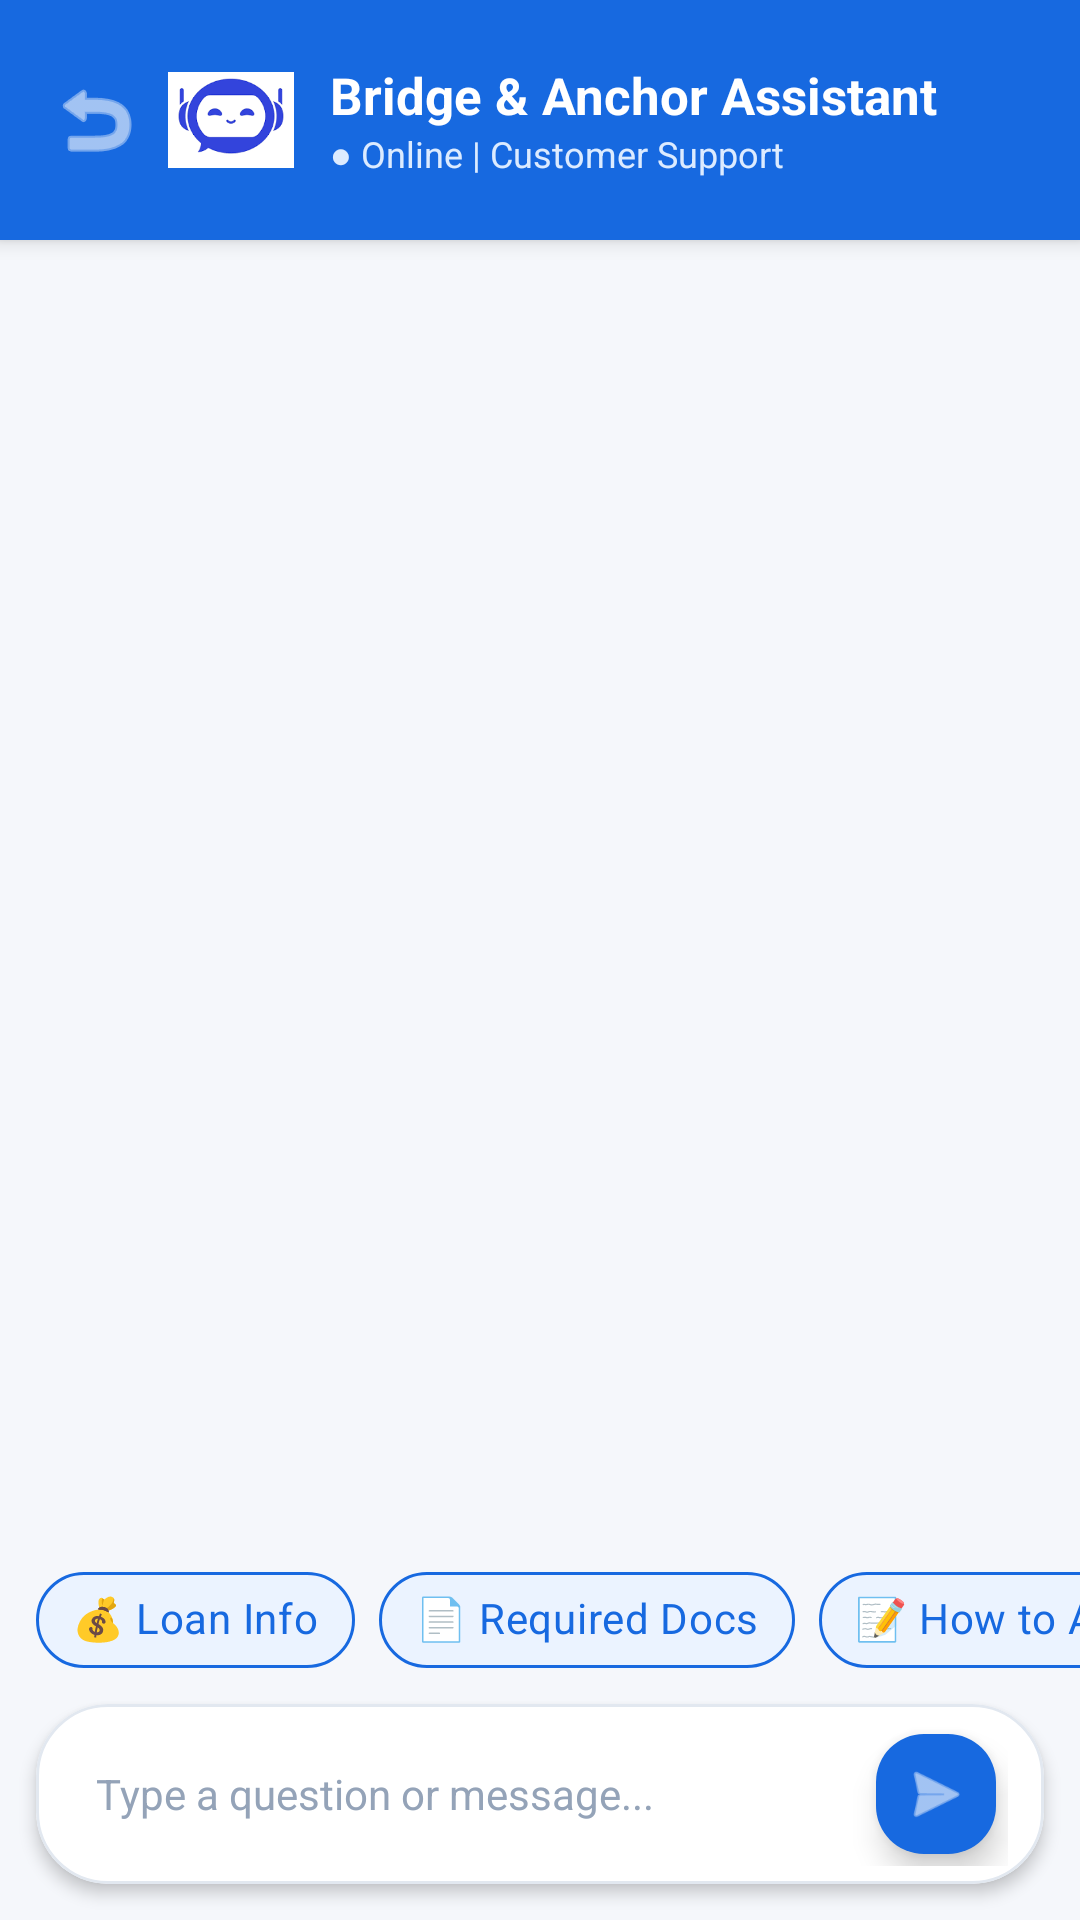

Icon bounding boxes for this 1080 x 1920 phone screenshot, format (x1, y1, x2, y2):
Back: (63, 89, 132, 152)
Chatbot Avatar: (168, 72, 294, 168)
Send message: (876, 1734, 999, 1866)
